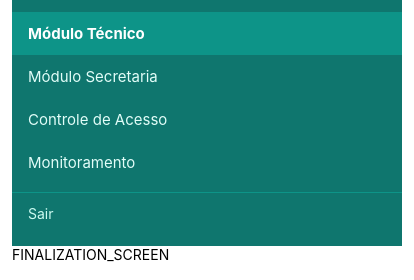
SuperusuarioHomeScreen › renders SecretaryDashboardScreen after selecting Monitoramento
Click the button "Monitoramento" at (82, 162), box 12,141 -> 402,184
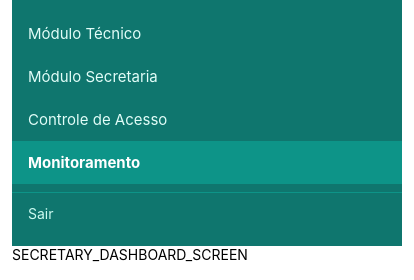
Expected: the text "SECRETARY_DASHBOARD_SCREEN" is shown, 12,246 -> 248,263
